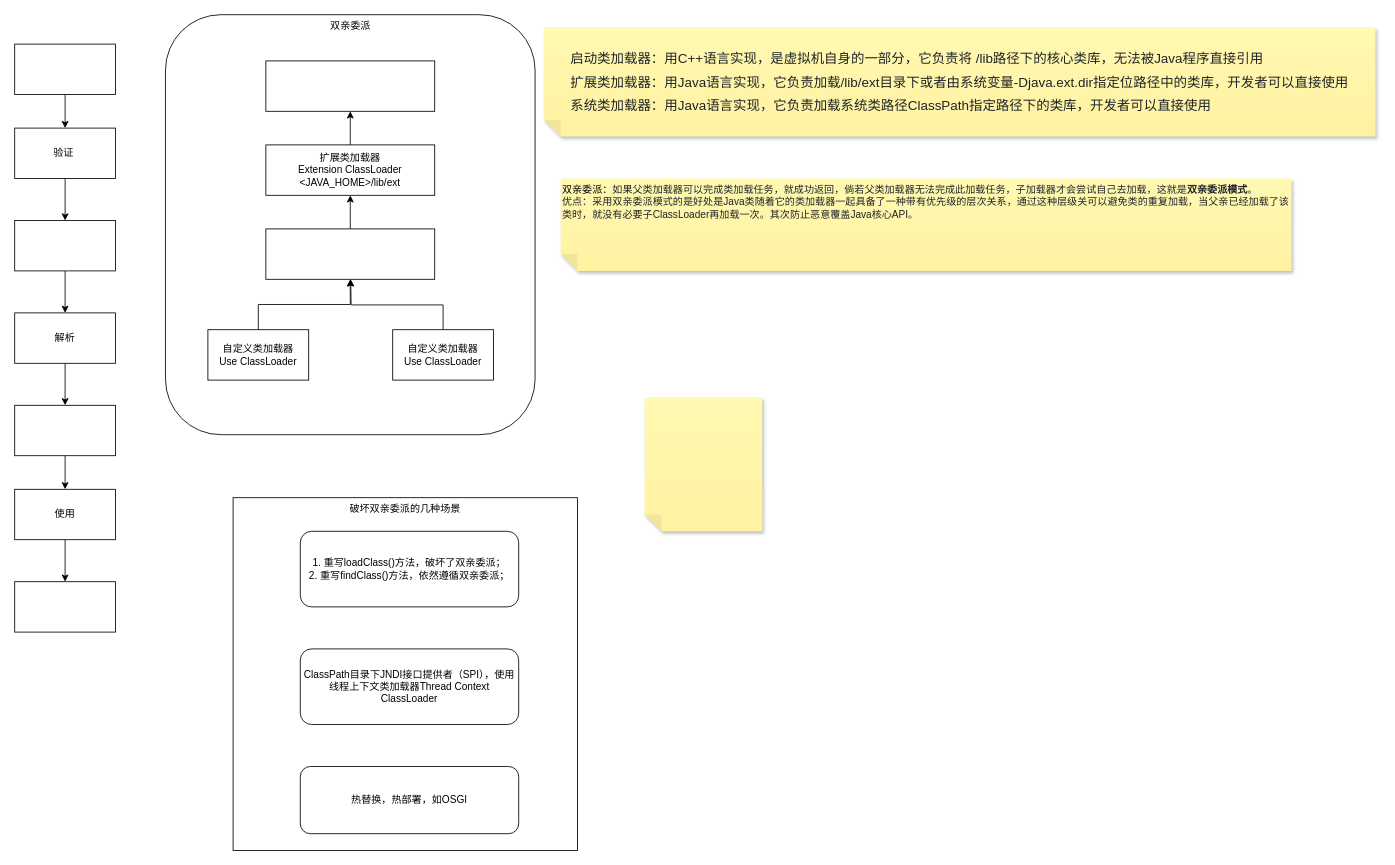
The diagram is 1395 pixels wide and 865 high, and some of its shapes have lost their labels. Each missing label, with the centre of its shape:
准备: the point at 65,245
初始化: the point at 65,430
加载: the point at 65,68
卸载: the point at 65,606
启动类加载器 Bootstrap ClassLoader <JAVA_HOME>/lib: the point at 350,85
系统类加载器 Application ClassLoader ClassPath: the point at 350,253
